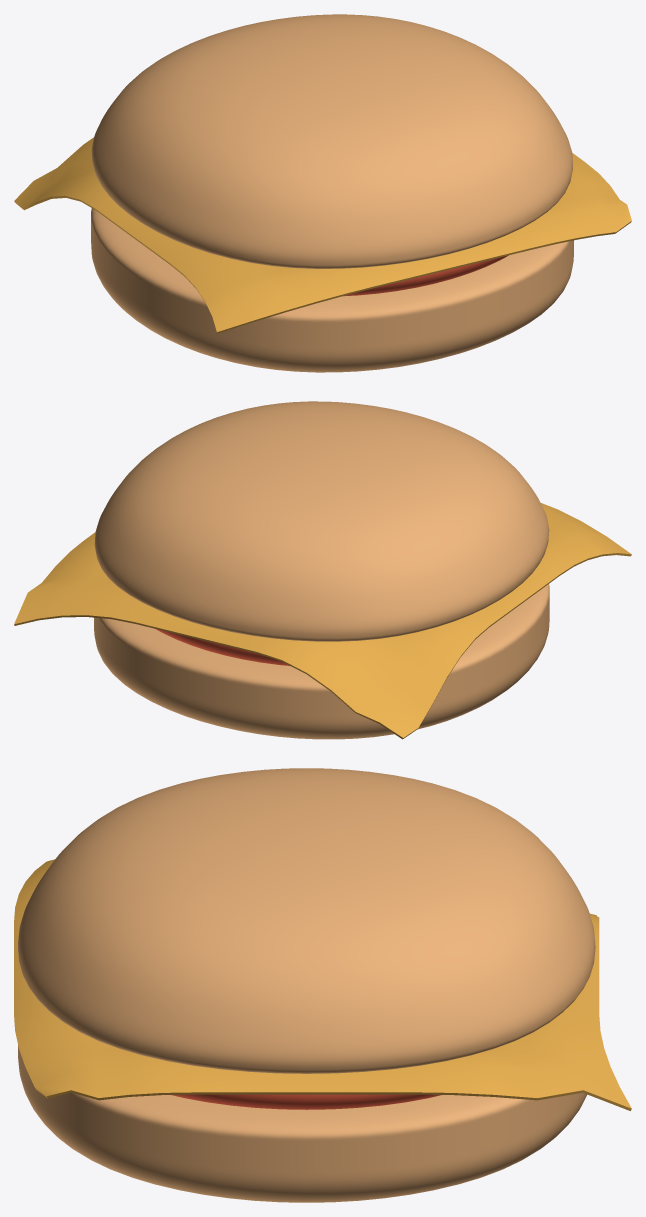
The model's file is burger.glb.
3 views of the same model, one above another, from view 1: azimuth 30°, elevation 25°; view 2: azimuth 150°, elevation 25°; view 3: azimuth 270°, elevation 25° (orthographic). The views are drawn at different scales.
Parts seen in each view (by area): view 1: Cube.002, Cube, Plane, Cube.001; view 2: Cube.002, Plane, Cube, Cube.001; view 3: Cube.002, Cube, Plane, Cube.001.
Part boxes in pixels (left/top/right/bottom): Cube.002: left=91, top=14, right=572, bottom=268; Cube: left=91, top=208, right=573, bottom=372; Plane: left=14, top=137, right=631, bottom=333; Cube.001: left=343, top=255, right=508, bottom=296; Cube.002: left=94, top=401, right=549, bottom=641; Plane: left=14, top=503, right=631, bottom=739; Cube: left=94, top=584, right=549, bottom=739; Cube.001: left=156, top=629, right=289, bottom=665; Cube.002: left=18, top=768, right=595, bottom=1073; Cube: left=18, top=1045, right=587, bottom=1202; Plane: left=14, top=859, right=631, bottom=1110; Cube.001: left=172, top=1094, right=441, bottom=1109.
Bounding box in the file's own units: 9.57 × 5.12 × 9.77.
